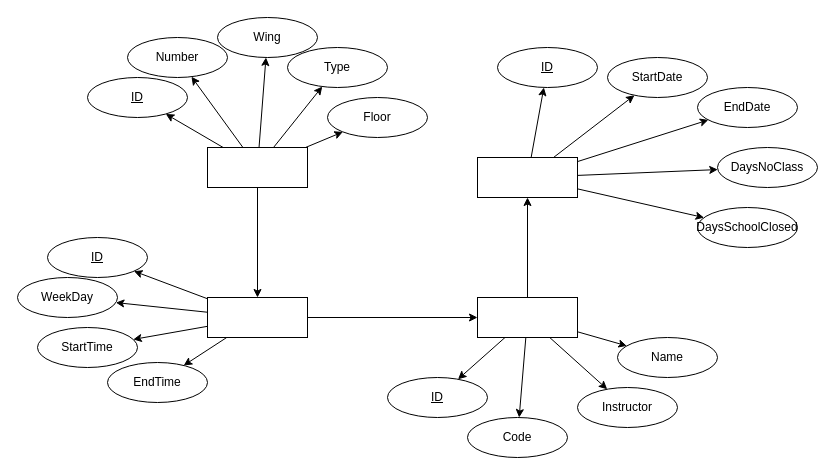
This 835x475 diagram has some shape labels left out. Each missing label, with the centre of its shape:
"Class" belongs at (x=527, y=317).
"ClassSchedule" belongs at (x=257, y=317).
"Room" belongs at (x=257, y=167).
"SchoolTerm" belongs at (x=527, y=177).
